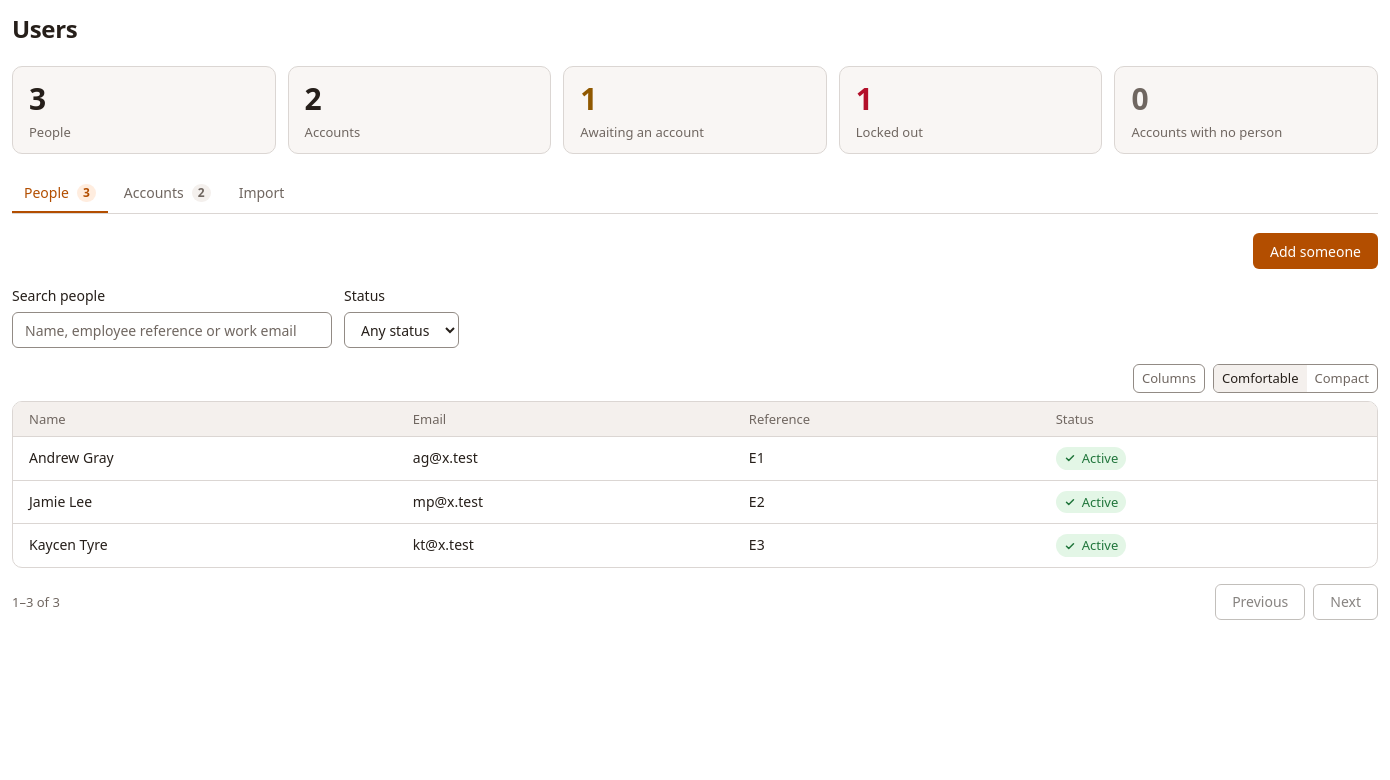
it: Users › moves between the two without a page load
Expected: the link "Andrew Gray" is shown, [29,448,114,467]
Click the tab "Accounts 2" at (167, 194), box [112,174,223,213]
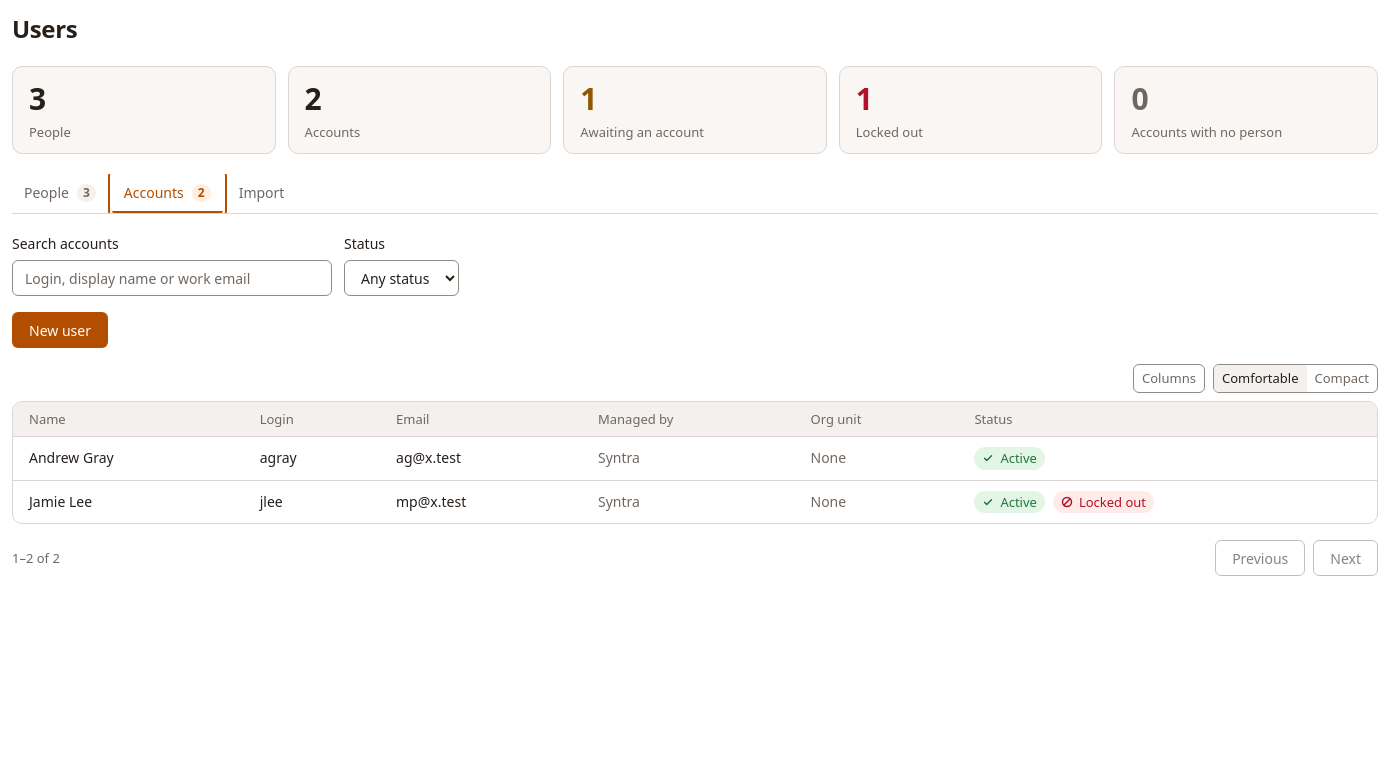
Expected: the text "agray" is shown, [244,437,380,480]
